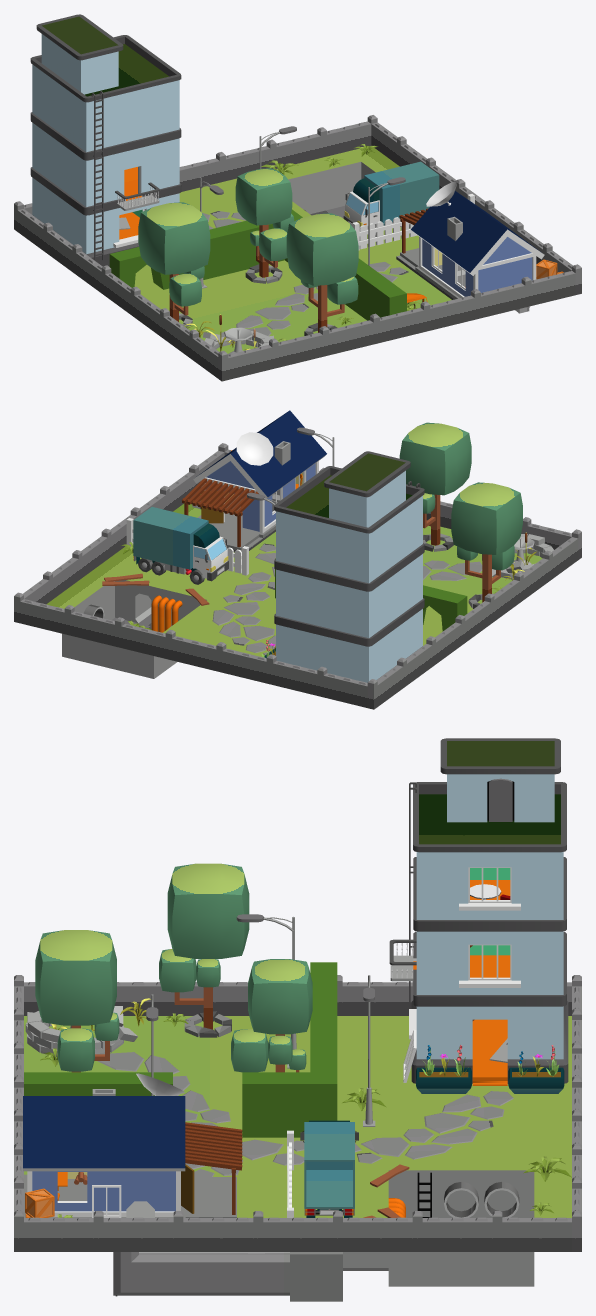
The model's file is low_poly_stage.glb.
The picture shows the model from 3 angles, top to bottom: view 1: azimuth 30°, elevation 25°; view 2: azimuth 150°, elevation 25°; view 3: azimuth 270°, elevation 25°; orthographic projection. The views are drawn at different scales.
Visible parts, largest first — view 1: Plane.001_5, Plane_0, Cube.001_1, Cube.004_4, Plane.002_32, Plane.005_6, Plane.004_34, Cube.003_3, Plane.007_8, Plane.003_33, Cube.016_75, Cube.002_2 (+6 smaller); view 2: Plane.001_5, Plane_0, Cube.003_3, Cube.004_4, Plane.004_34, Cube.016_75, Plane.002_32, Cube.002_2, Plane.007_8, Plane.006_7, Plane.009_10, Cube.001_1 (+6 smaller); view 3: Plane_0, Plane.001_5, Cube.002_2, Plane.007_8, Plane.005_6, Plane.004_34, Plane.002_32, Plane.003_33, Cube.004_4, Cube.016_75, Plane.006_7, Cube.003_3 (+10 smaller).
Boxes of the visible parts, left/top/right/bottom form: Plane.001_5: left=30, top=14, right=181, bottom=266; Plane_0: left=134, top=145, right=529, bottom=353; Cube.001_1: left=218, top=271, right=575, bottom=381; Cube.004_4: left=14, top=201, right=219, bottom=378; Plane.002_32: left=286, top=213, right=358, bottom=332; Plane.005_6: left=109, top=209, right=406, bottom=320; Plane.004_34: left=138, top=202, right=210, bottom=321; Cube.003_3: left=24, top=115, right=377, bottom=214; Plane.007_8: left=411, top=191, right=544, bottom=275; Plane.003_33: left=235, top=168, right=294, bottom=277; Cube.016_75: left=343, top=161, right=439, bottom=229; Cube.002_2: left=371, top=122, right=581, bottom=294; Plane.001_5: left=274, top=451, right=424, bottom=682; Plane_0: left=46, top=494, right=542, bottom=678; Cube.003_3: left=14, top=592, right=367, bottom=707; Cube.004_4: left=367, top=537, right=578, bottom=709; Plane.004_34: left=451, top=482, right=522, bottom=602; Cube.016_75: left=133, top=507, right=228, bottom=581; Plane.002_32: left=399, top=422, right=471, bottom=545; Cube.002_2: left=23, top=443, right=228, bottom=604; Plane.007_8: left=193, top=410, right=326, bottom=500; Plane.006_7: left=206, top=461, right=315, bottom=531; Plane.009_10: left=182, top=478, right=258, bottom=516; Cube.001_1: left=224, top=449, right=581, bottom=559; Plane_0: left=24, top=1016, right=571, bottom=1301; Plane.001_5: left=411, top=738, right=568, bottom=1085; Cube.002_2: left=14, top=1211, right=571, bottom=1251; Plane.007_8: left=23, top=1096, right=185, bottom=1171; Plane.005_6: left=24, top=962, right=337, bottom=1137; Plane.004_34: left=159, top=863, right=249, bottom=1029; Plane.002_32: left=35, top=930, right=119, bottom=1072; Plane.003_33: left=231, top=959, right=312, bottom=1072; Cube.004_4: left=24, top=975, right=581, bottom=1015; Cube.016_75: left=300, top=1120, right=358, bottom=1217; Plane.006_7: left=32, top=1171, right=175, bottom=1211; Cube.003_3: left=572, top=986, right=581, bottom=1251.
Size of the model in its own units: 24.32 by 15.89 by 24.17.
Materials: 1 (1 with a texture image).
